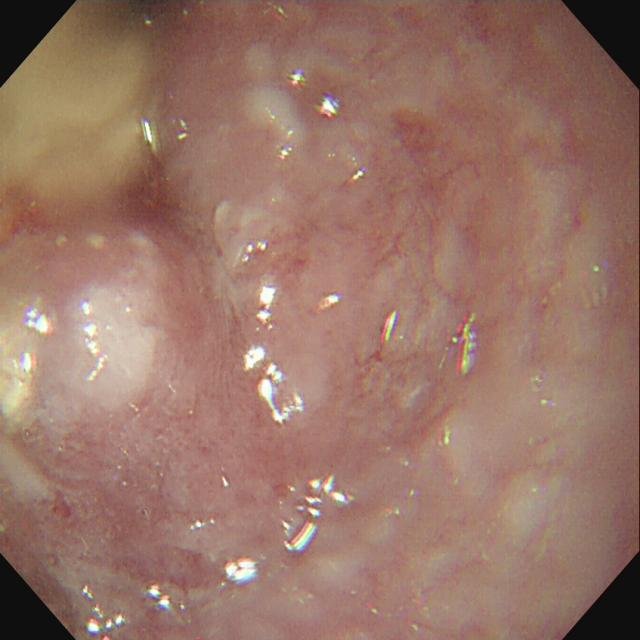B: (2, 19, 151, 204)
U: (244, 347, 304, 425), (81, 302, 108, 382), (304, 477, 350, 510), (281, 518, 317, 554), (458, 314, 477, 379), (87, 607, 127, 635), (225, 558, 260, 587), (257, 285, 279, 331), (25, 308, 51, 336), (147, 586, 172, 611), (242, 241, 268, 265), (318, 94, 341, 119), (316, 291, 343, 312), (383, 312, 398, 346), (15, 354, 37, 377), (286, 72, 308, 91), (84, 586, 94, 599)
